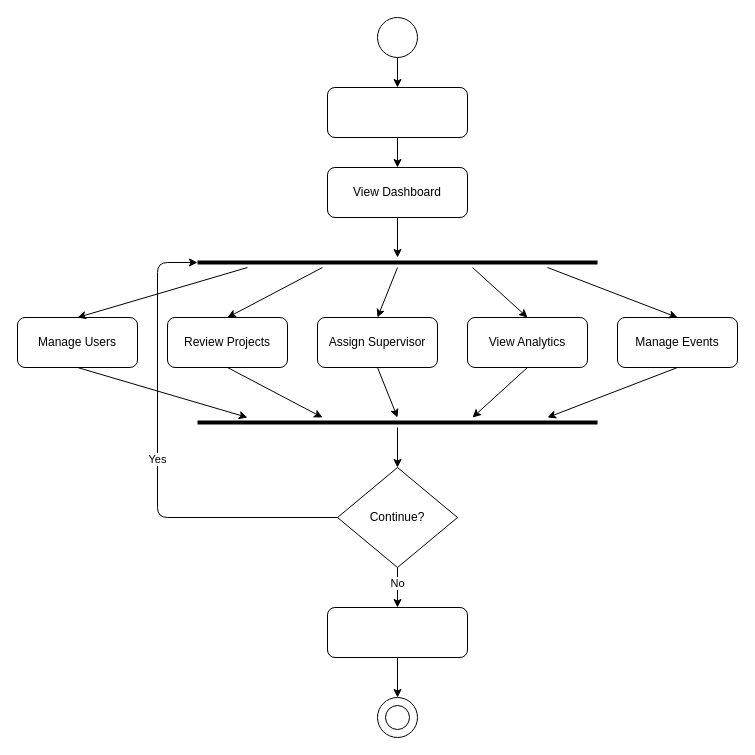
The diagram is 755 pixels wide and 755 high, and some of its shapes have lost their labels. The shapes that lost their labels are listed below. From the top down, each one's centre as x and y in pixels, then its label:
(397,112): Admin Login
(397,632): Logout
